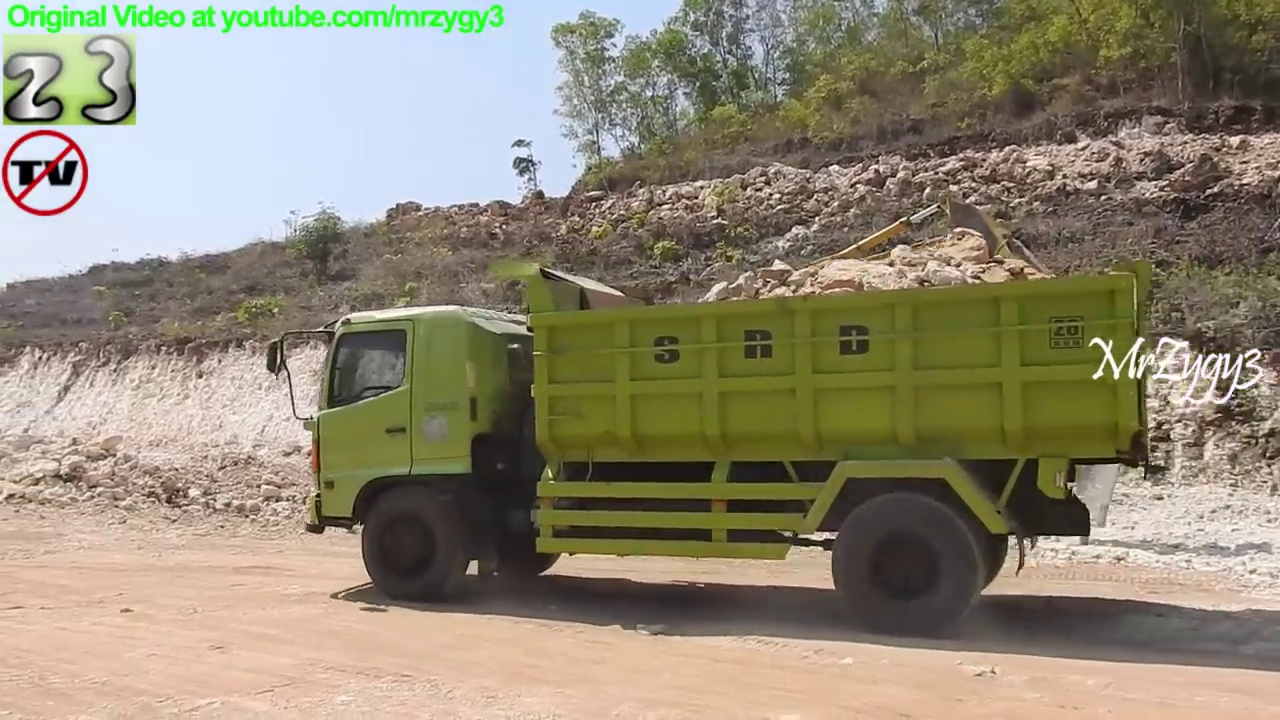excavator: (650, 200, 1140, 548)
truck: (265, 257, 1154, 638)
